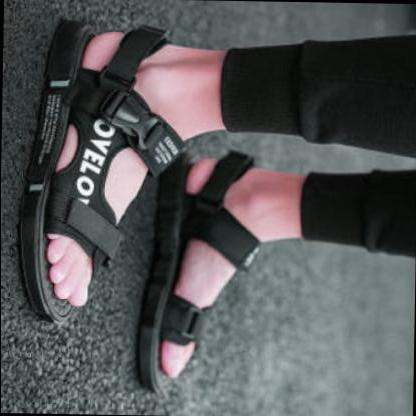no_safety-shoe: (1, 16, 189, 332), (131, 128, 286, 394)
